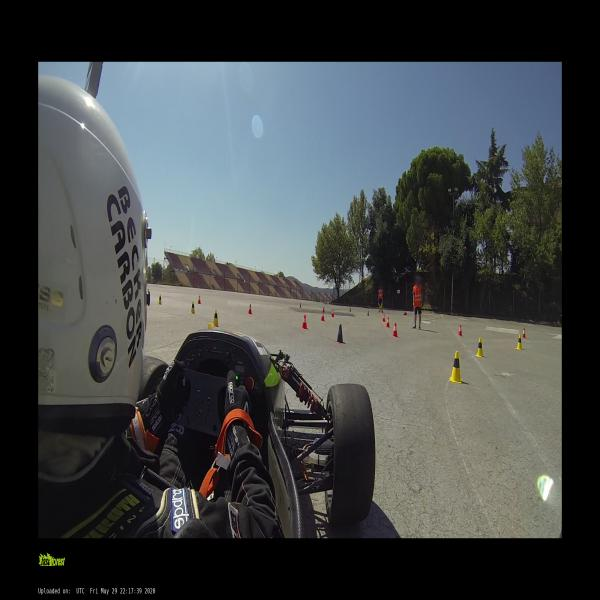blue_cone: (336, 325, 344, 342), (367, 310, 369, 316), (300, 302, 301, 308), (350, 307, 351, 312), (323, 306, 324, 311)
orange_cone: (392, 323, 398, 337), (302, 314, 307, 330), (458, 325, 462, 336), (248, 304, 252, 314), (522, 328, 526, 338), (321, 311, 325, 321), (386, 318, 390, 327), (332, 309, 334, 318), (198, 295, 200, 304), (383, 314, 385, 322)
yellow_cone: (449, 351, 462, 384), (476, 337, 483, 357), (516, 334, 522, 350), (213, 310, 218, 326), (191, 301, 195, 314), (158, 294, 162, 304)
